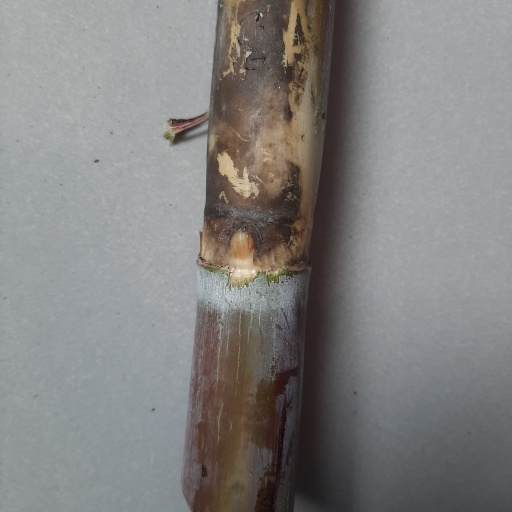Bud: (224, 227, 259, 264)
